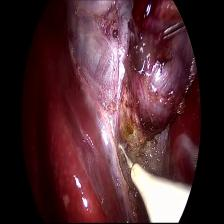Hook: (116, 140, 192, 224)
